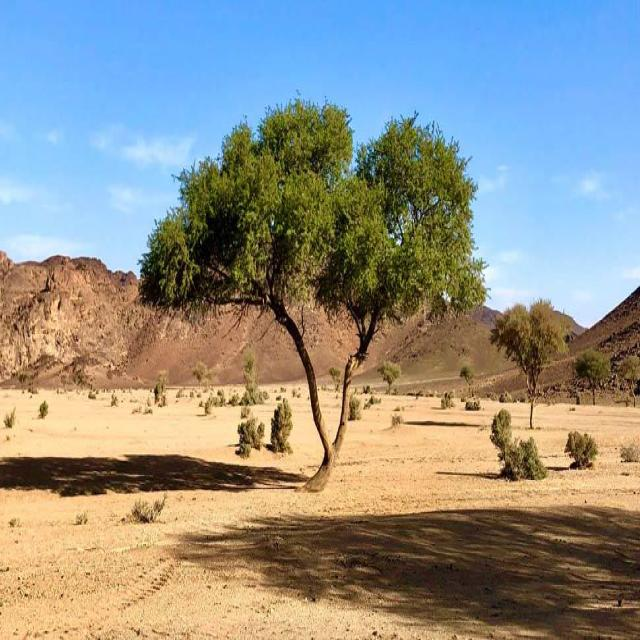Acacia: (144, 98, 465, 504), (496, 286, 565, 414)
